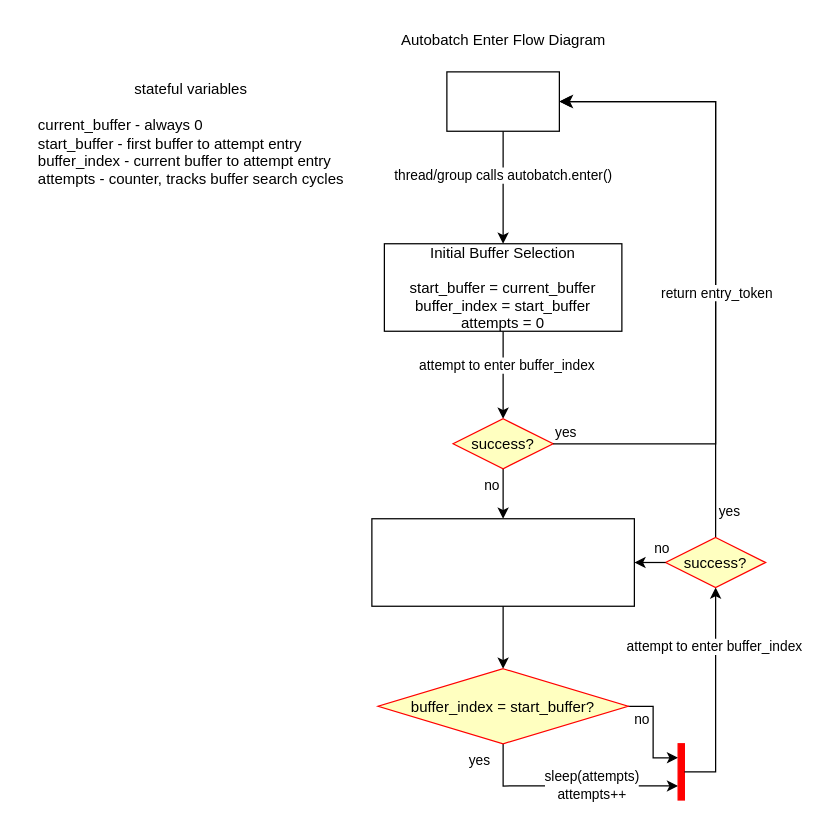
This 823x823 diagram has some shape labels left out. Each missing label, with the box of its shape:
Buffer Search buffer_index = buffer_index.next: (371, 518, 634, 606)
Idle: (446, 71, 559, 131)
